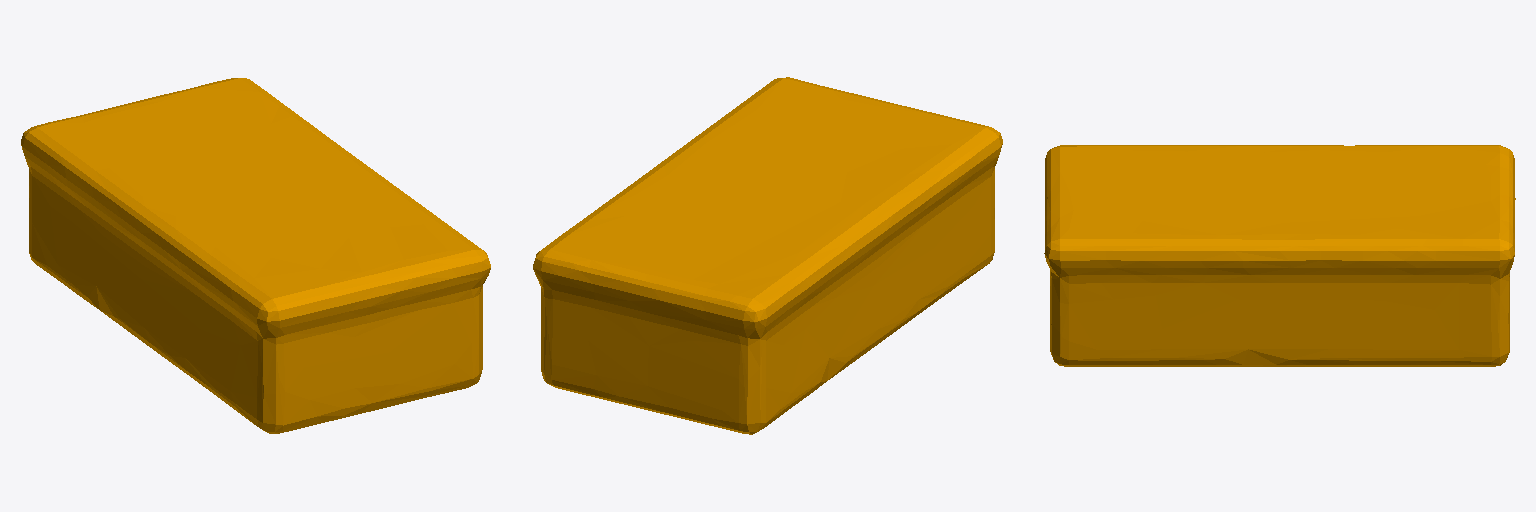
URDF robot description (box_poisson_000):
<?xml version="1.0"?>
<robot name="box_poisson_000">
  <link name="base_link">
    <contact>
      <lateral_friction value="1.0"/>
      <rolling_friction value="0.0"/>
      <contact_cfm value="0.0"/>
      <contact_erp value="1.0"/>
    </contact>
    <inertial>
      <mass value="0.848017774255"/>
      <inertia ixx="1" ixy="0" ixz="0" iyy="1" iyz="0" izz="1"/>
    </inertial>
    <visual>
      <geometry>
        <mesh filename="box_poisson_000_visual.obj"/>
      </geometry>
    </visual>
    <collision>
      <geometry>
        <mesh filename="box_poisson_000_collision.obj"/>
      </geometry>
    </collision>
  </link>
</robot>

--- What the picture shows (computed from the rendered views, not written in the file) ---
3 views of the same robot in one strip: view 1: azimuth 30°, elevation 25°; view 2: azimuth 150°, elevation 25°; view 3: azimuth 270°, elevation 25° (orthographic).
Robot: box_poisson_000 — 1 links, 0 joints (none); root link base_link; default pose: every joint at zero.
Visible links, largest first — view 1: base_link; view 2: base_link; view 3: base_link.
Boxes of the visible links, left/top/right/bottom form: base_link: left=21, top=78, right=490, bottom=433; base_link: left=533, top=77, right=1002, bottom=434; base_link: left=1044, top=145, right=1515, bottom=366.
Bounding box of the posed robot: 0.07 × 0.1309 × 0.0398 m (x, y, z).
1 mesh visuals loaded from 1 distinct referenced files (1 OBJ).